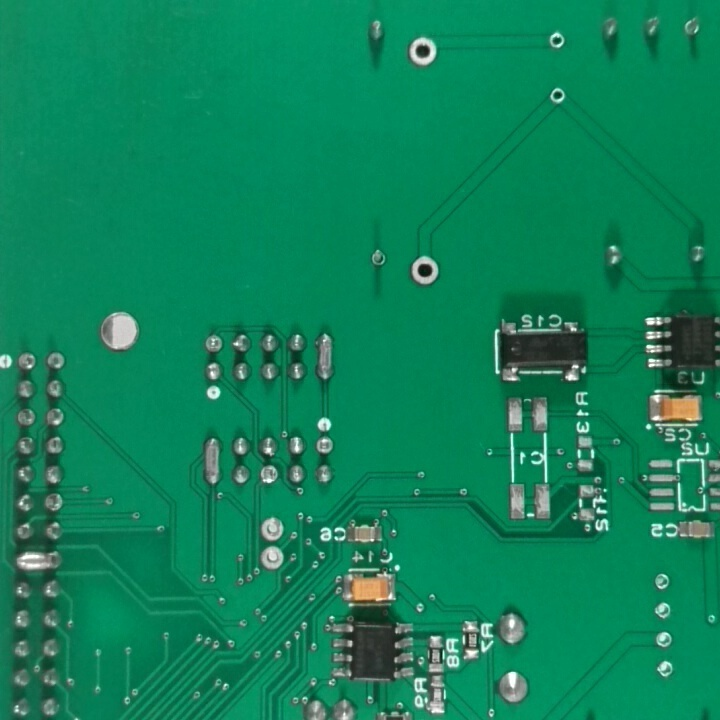F: (404, 32, 443, 72), (408, 257, 444, 289), (653, 657, 680, 683), (259, 546, 287, 571), (650, 630, 678, 655), (260, 516, 286, 542), (13, 403, 38, 429), (255, 462, 280, 487), (679, 15, 704, 39), (651, 600, 677, 623), (42, 490, 65, 514), (202, 333, 224, 358), (367, 246, 389, 270), (650, 571, 674, 593), (315, 435, 336, 458), (14, 352, 38, 372), (547, 28, 567, 52), (550, 86, 566, 107)
P: (197, 429, 226, 487), (313, 328, 336, 388), (13, 548, 62, 572)
